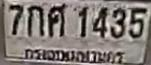1: (78, 5, 87, 36)
3: (109, 7, 126, 37)
4: (92, 6, 107, 37)
5: (128, 7, 146, 37)
7: (8, 3, 23, 34)
A01: (27, 4, 43, 36)
A38: (47, 3, 66, 36)
BKK: (23, 46, 127, 65)
